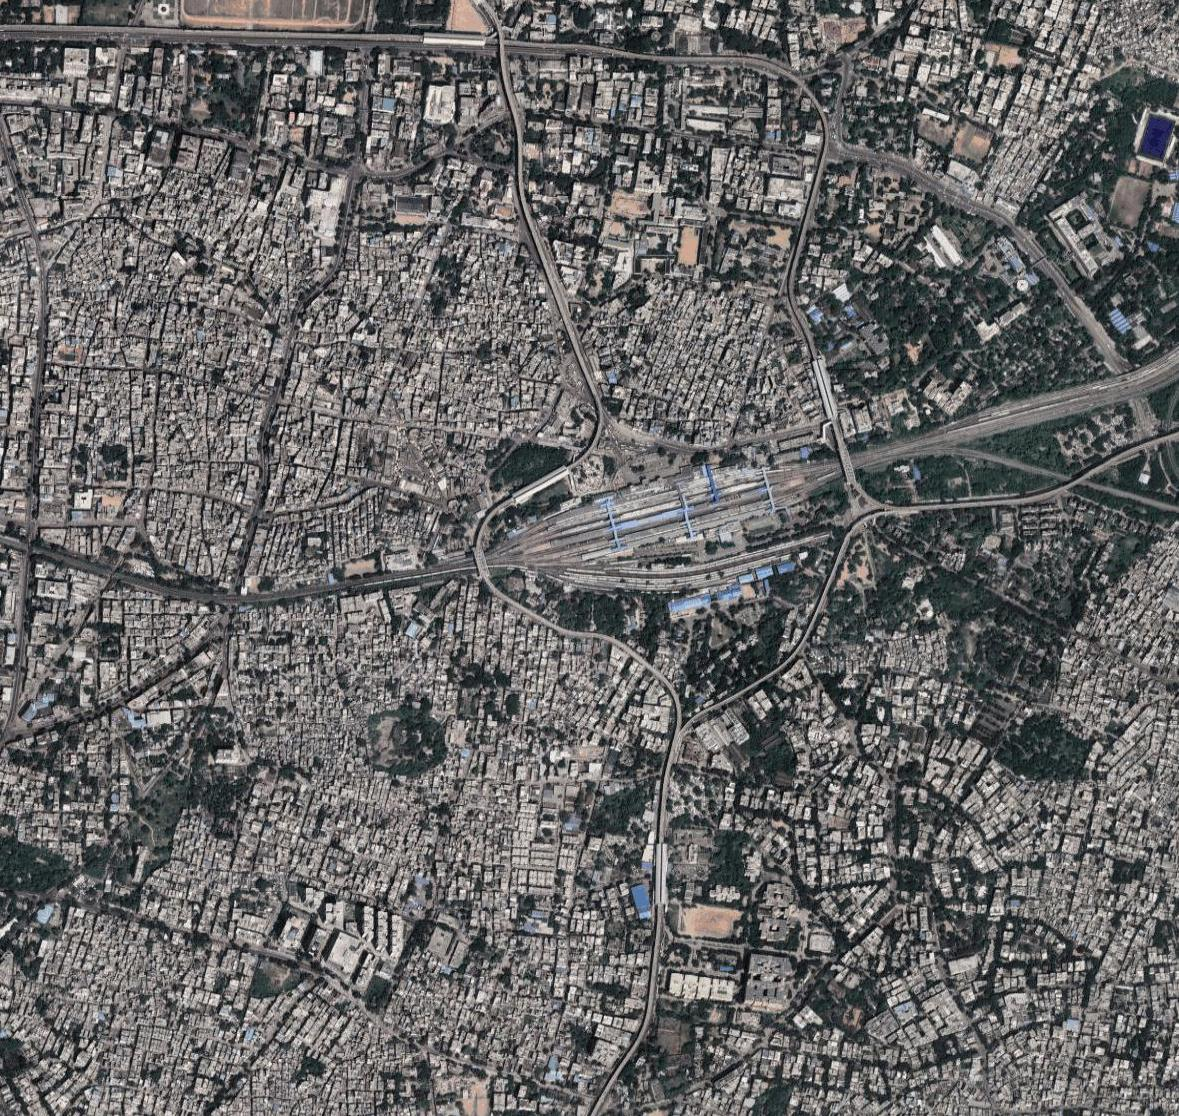bridge: (834, 450, 860, 486), (468, 544, 492, 576)
motorway: (643, 48, 800, 82), (488, 33, 650, 62), (164, 21, 325, 50), (1, 20, 160, 49), (326, 29, 487, 58)
train_station: (518, 453, 802, 611)
